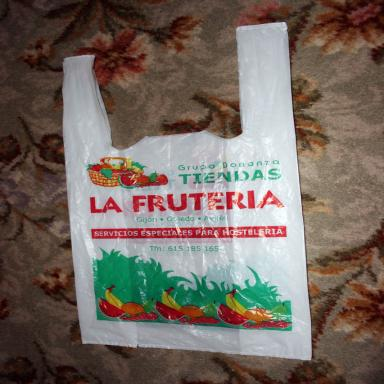plasticbag: (62, 20, 311, 360)
